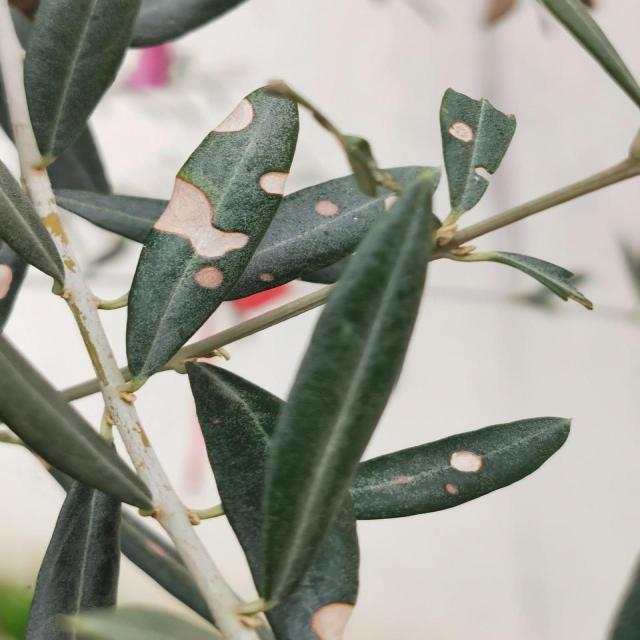OlivePeacockSpot: (126, 86, 298, 384), (349, 418, 570, 520), (440, 88, 516, 212)
